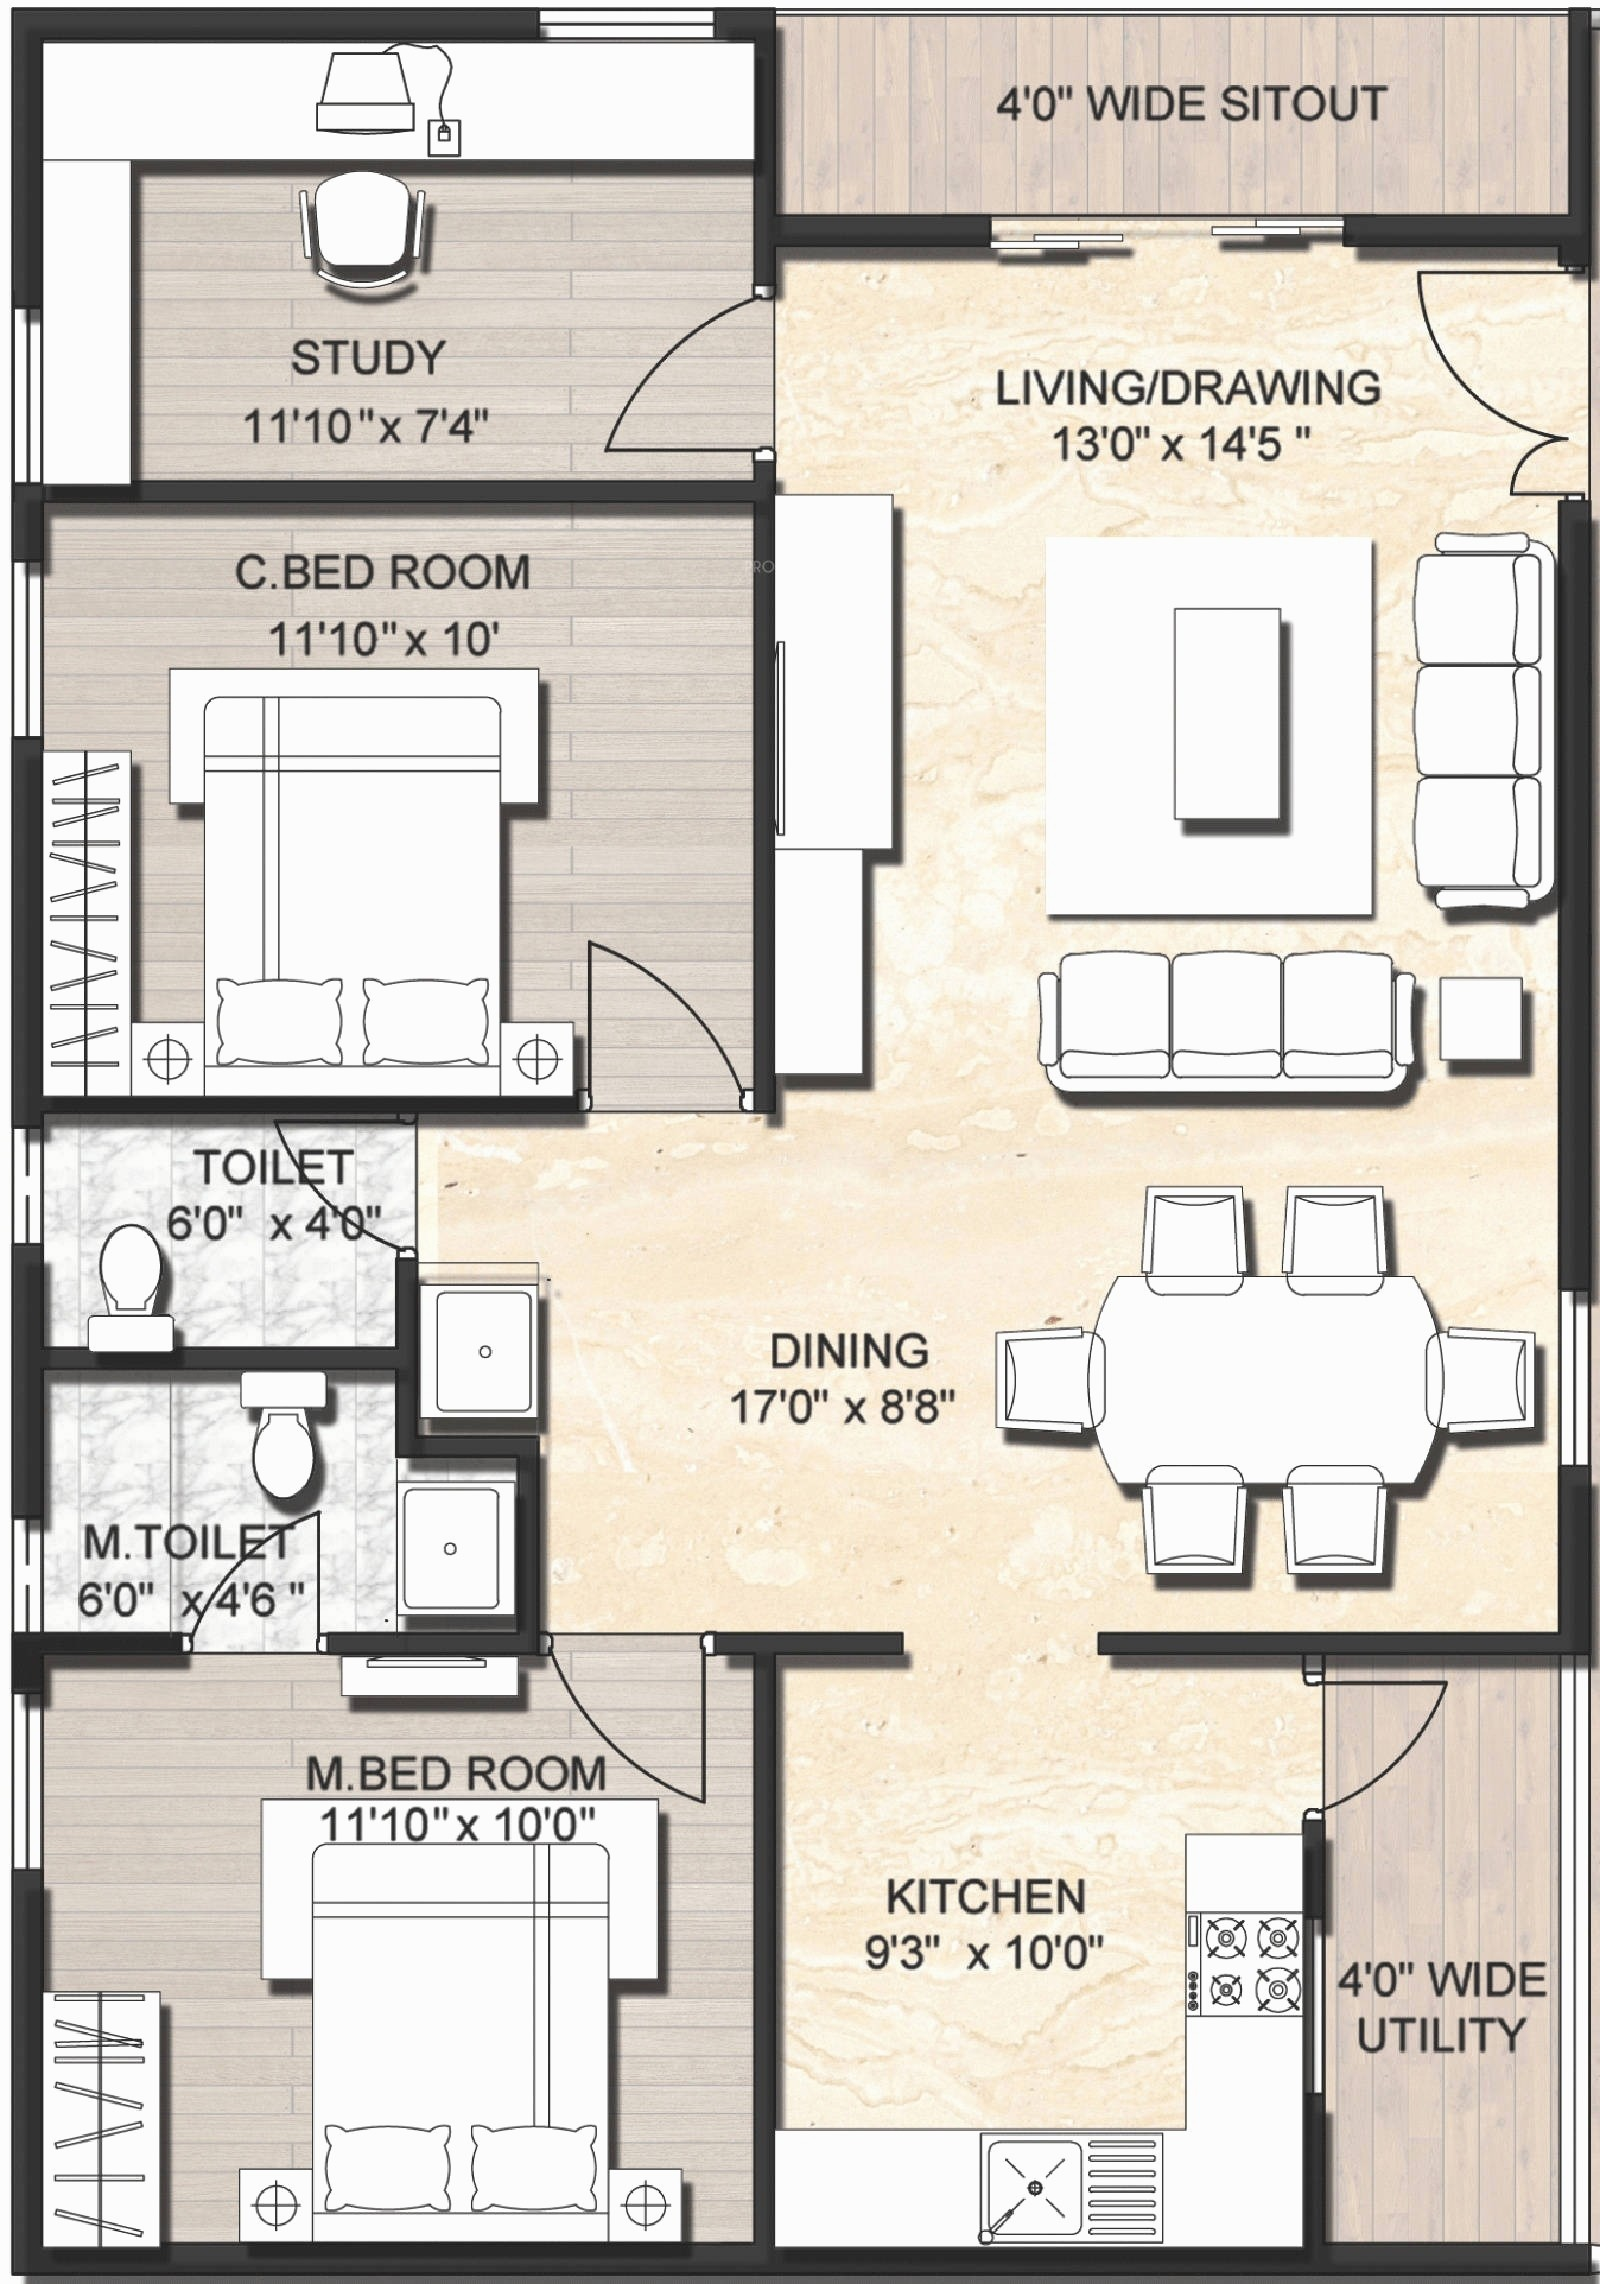door: (1387, 260, 1567, 514), (540, 1645, 718, 1814), (581, 285, 744, 460), (576, 922, 739, 1097), (585, 286, 746, 462), (1338, 1663, 1499, 1838), (180, 1505, 338, 1642)
